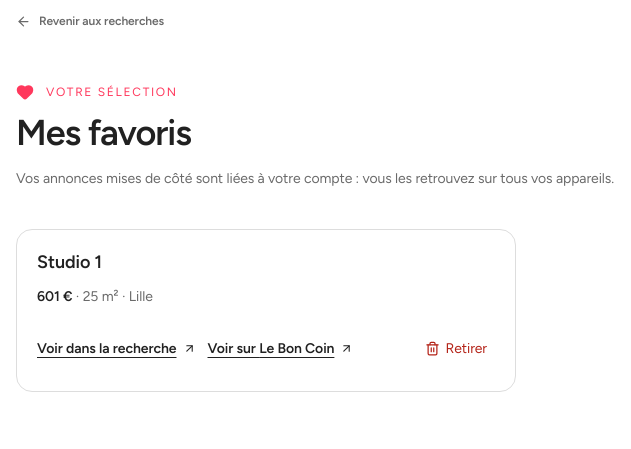
Test: Mes favoris › si la suppression échoue : le favori revient et un message l’explique
Click the button with aria-label "Retirer des favoris : Studio 1" at {"x": 456, "y": 349}, box left=416, top=327, right=495, bottom=371
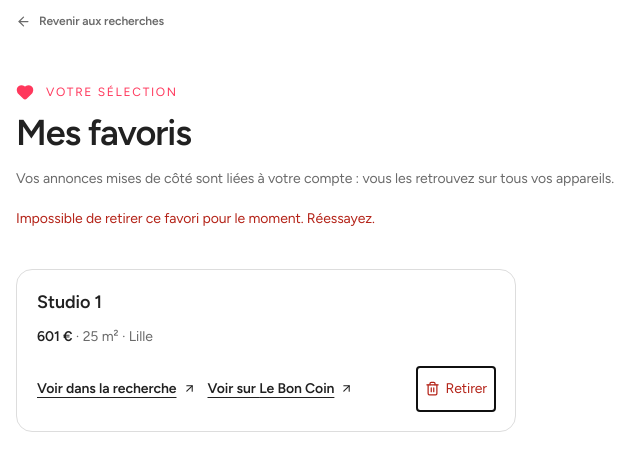
Check: the heading "Studio 1" is shown, box left=37, top=291, right=102, bottom=313
Check: the message shows "Impossible de retirer ce favori", box left=16, top=210, right=375, bottom=227
